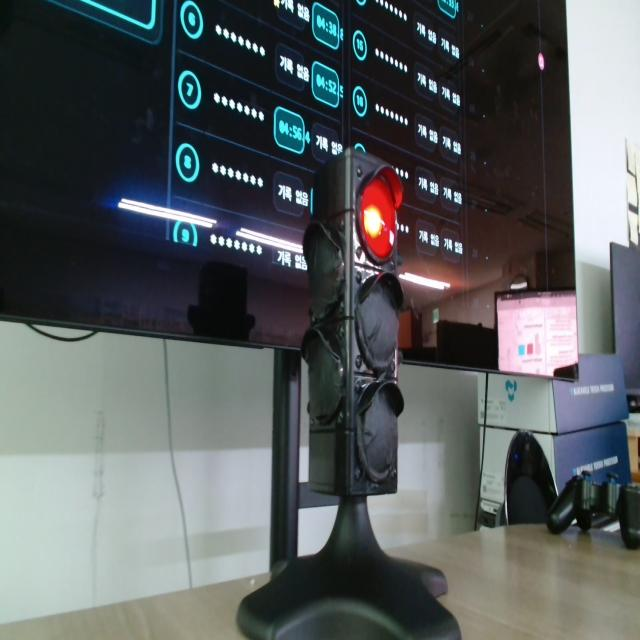red_light: (361, 178, 396, 260)
